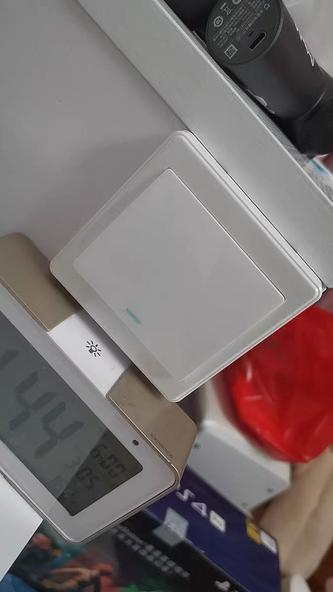switch: (55, 162, 309, 401)
